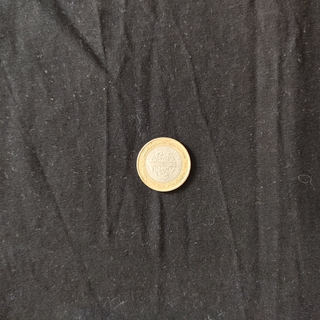1TL: (134, 135, 193, 194)
